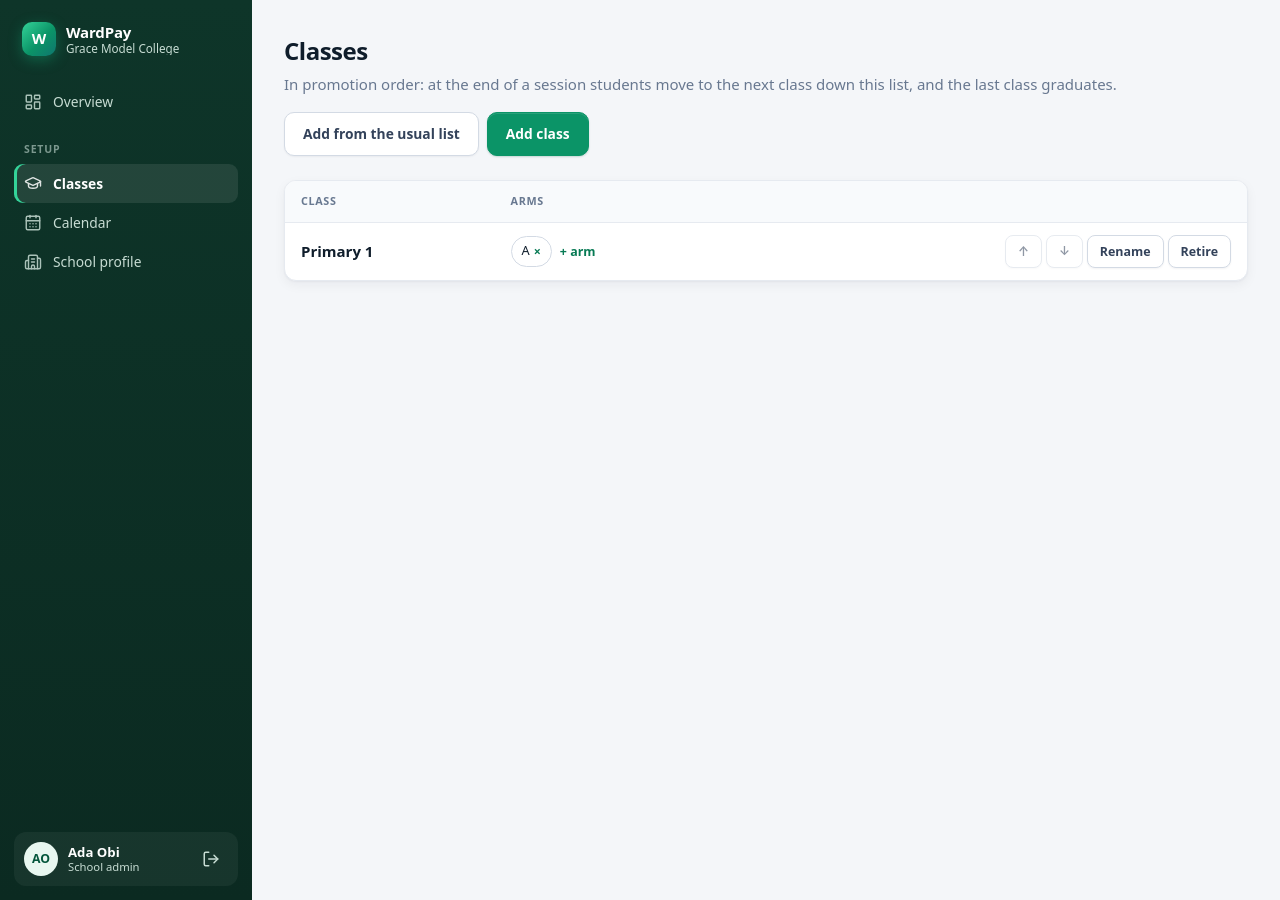
Test case: setting up classes › offers a school with classes only the ones it is missing, none ticked
The width and height of the screenshot is (1280, 900).
Click the button "Add from the usual list": coordinates (381, 134) x1=284 y1=112 x2=479 y2=156
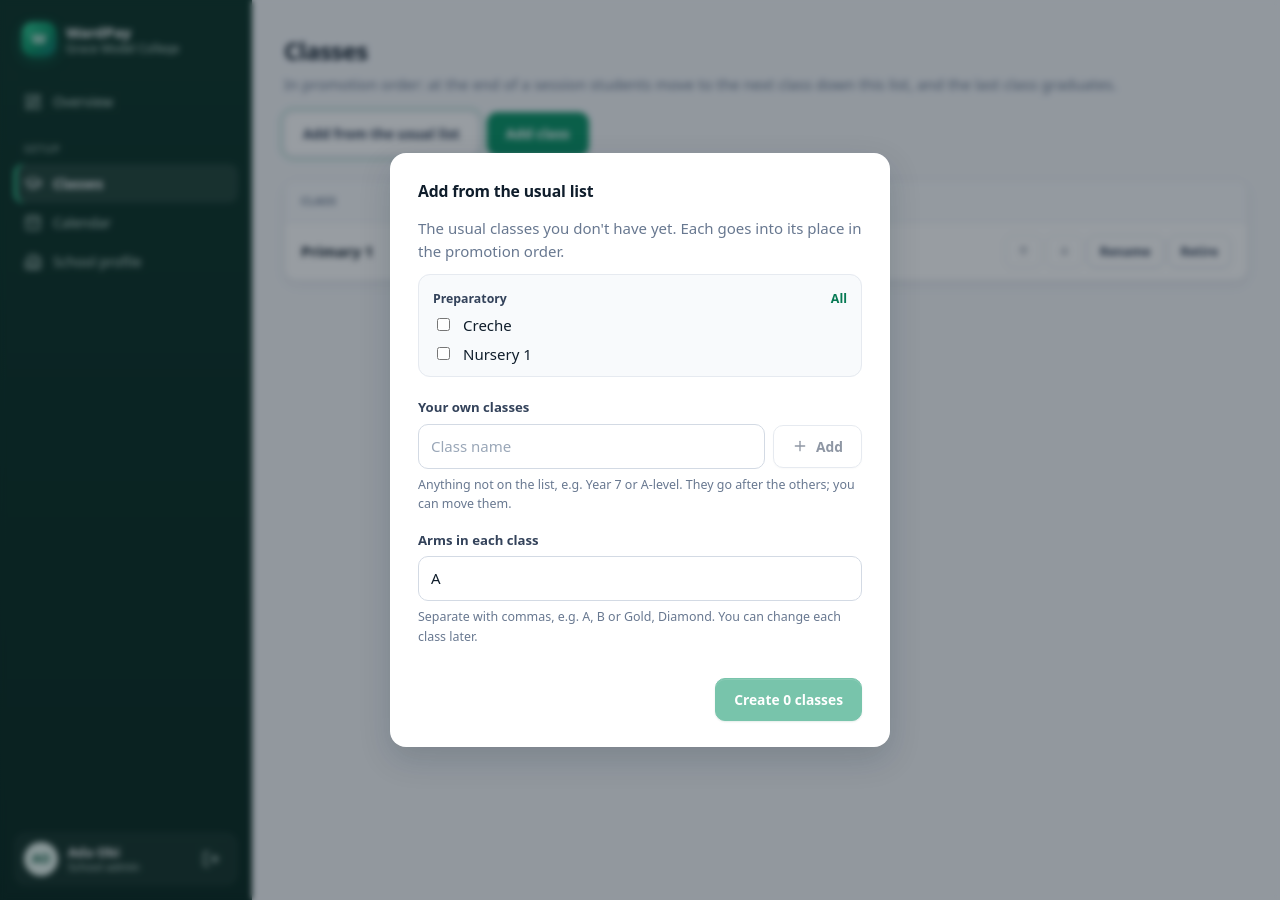
Check: the checkbox labelled "Creche" is not checked, box x1=437 y1=318 x2=450 y2=331
Check: the button "Create 0 classes" is disabled, box x1=715 y1=678 x2=862 y2=721
